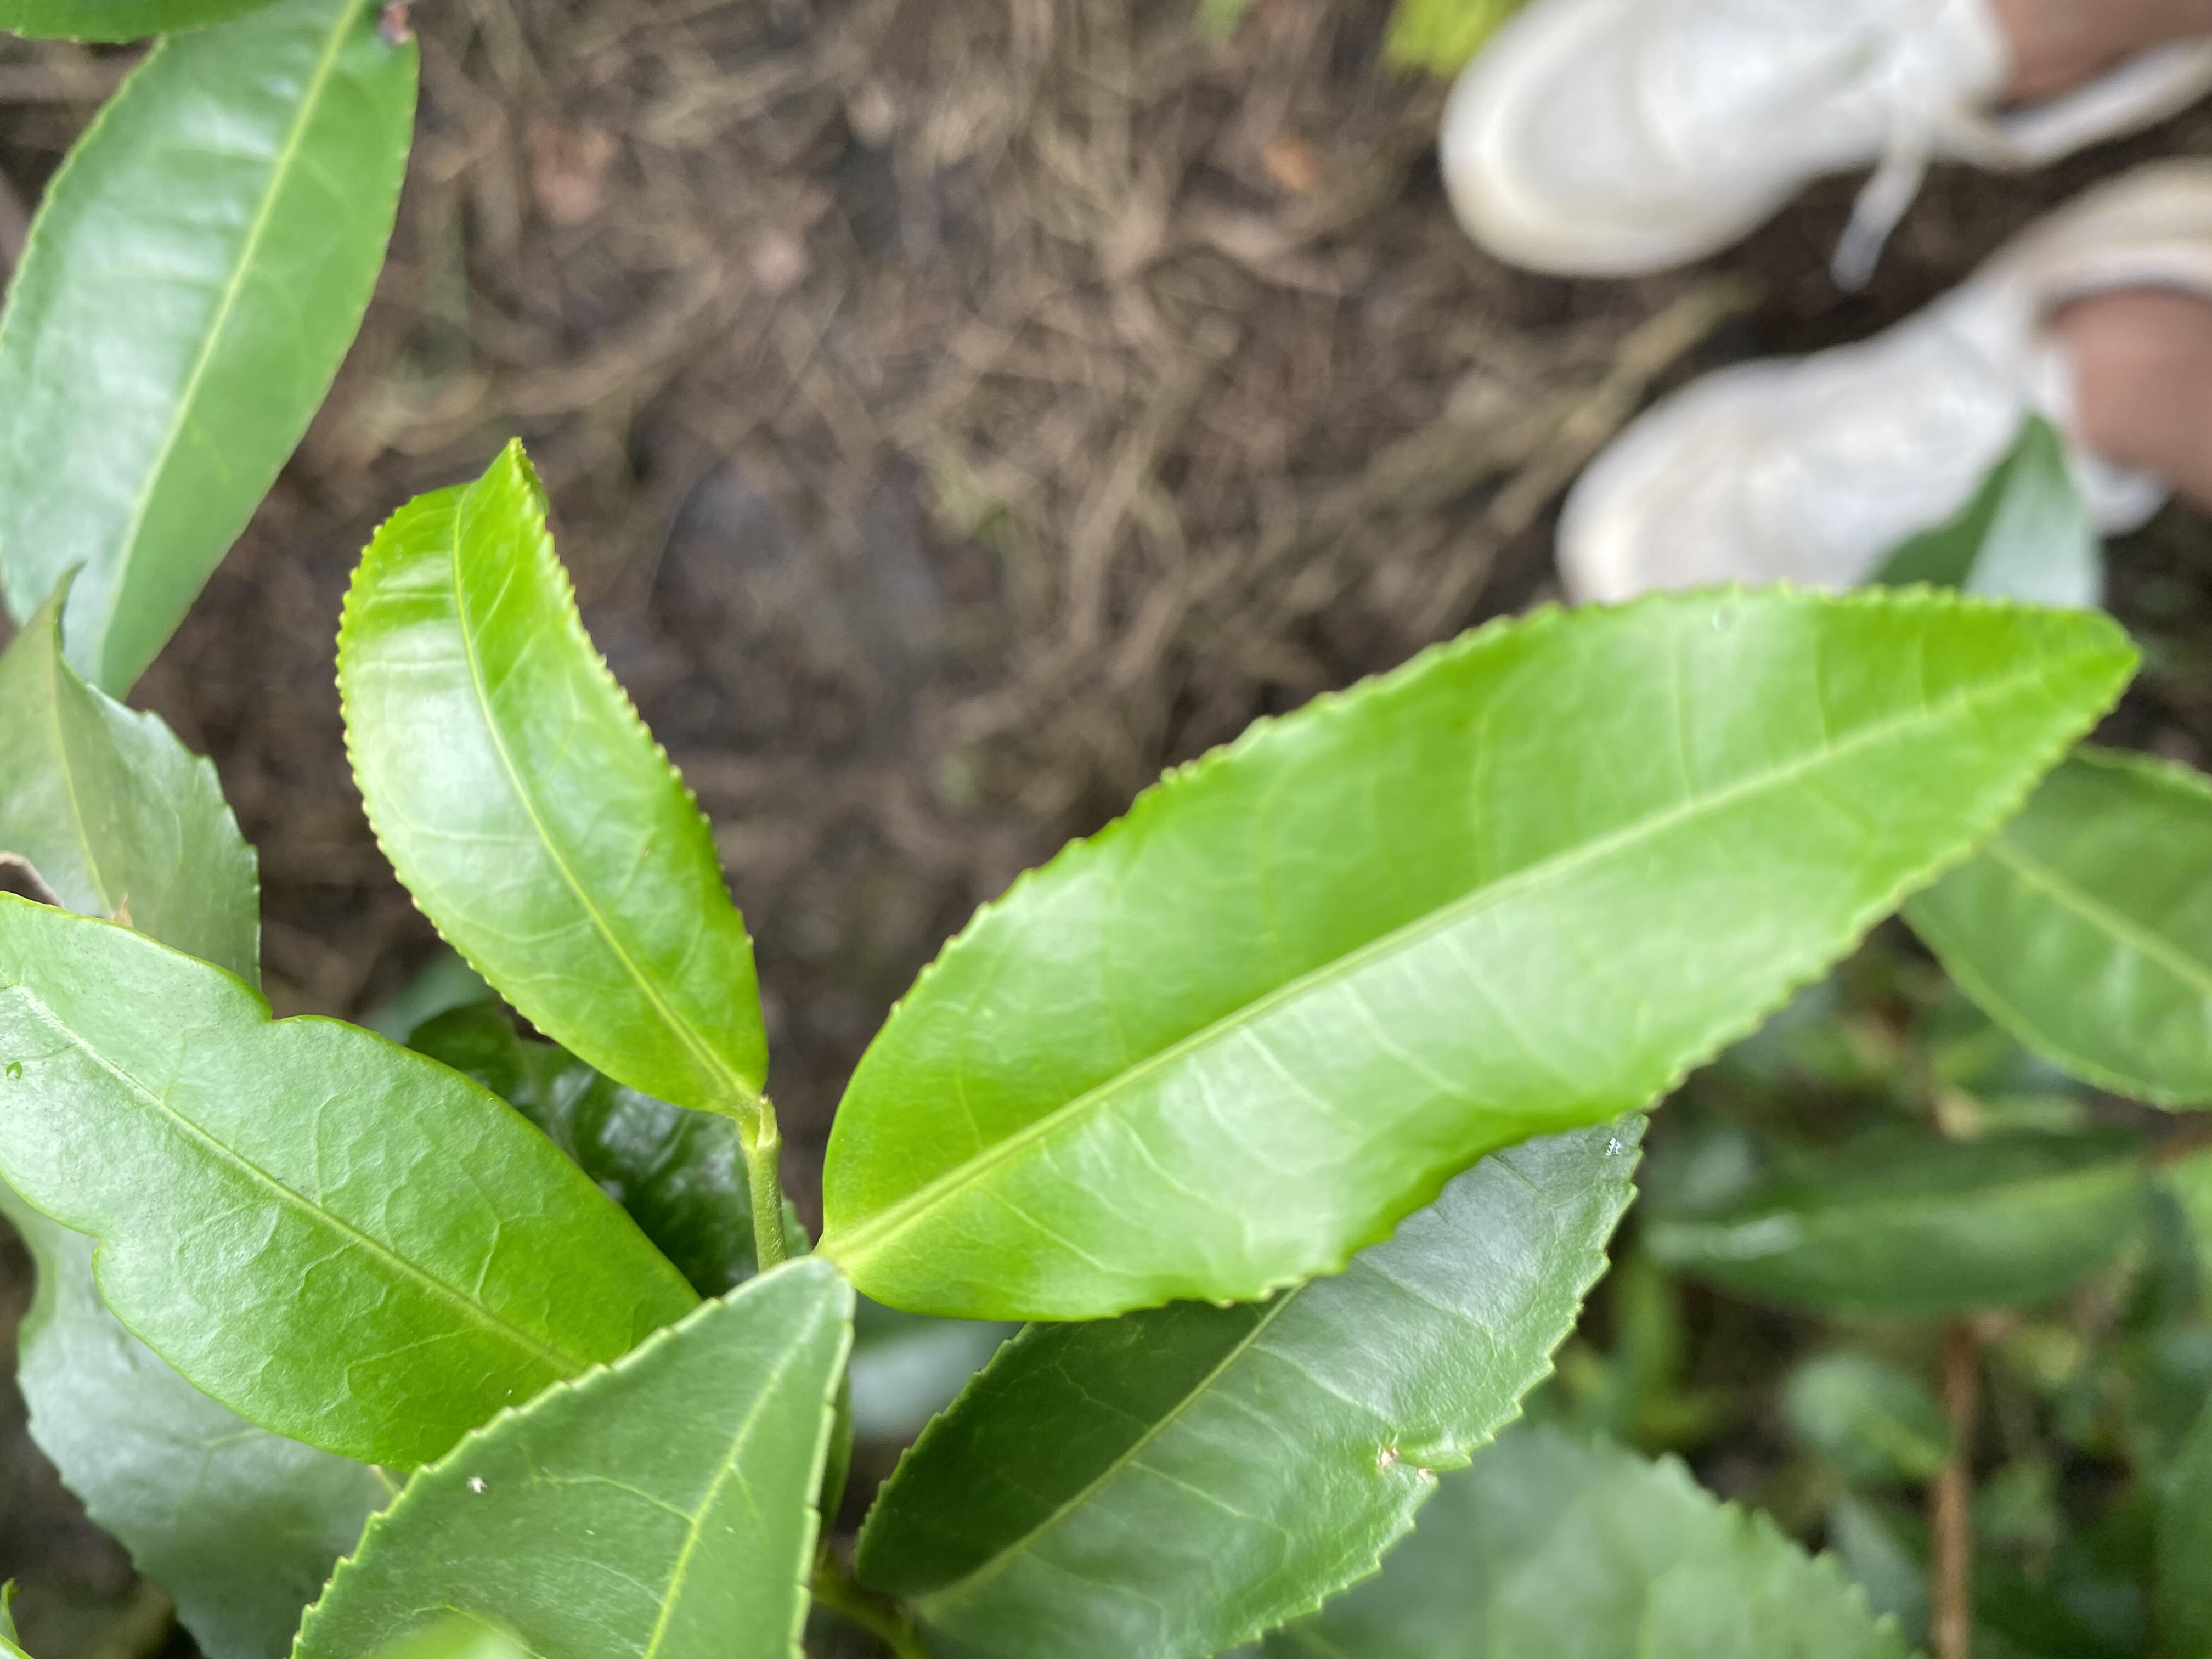healthy: (822, 575, 2141, 1326), (5, 892, 709, 1476), (334, 434, 775, 1112)
tanju_low: (2, 7, 425, 704)
